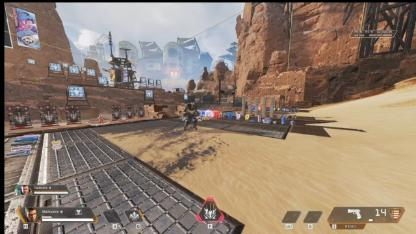Target: (181, 103, 197, 129)
